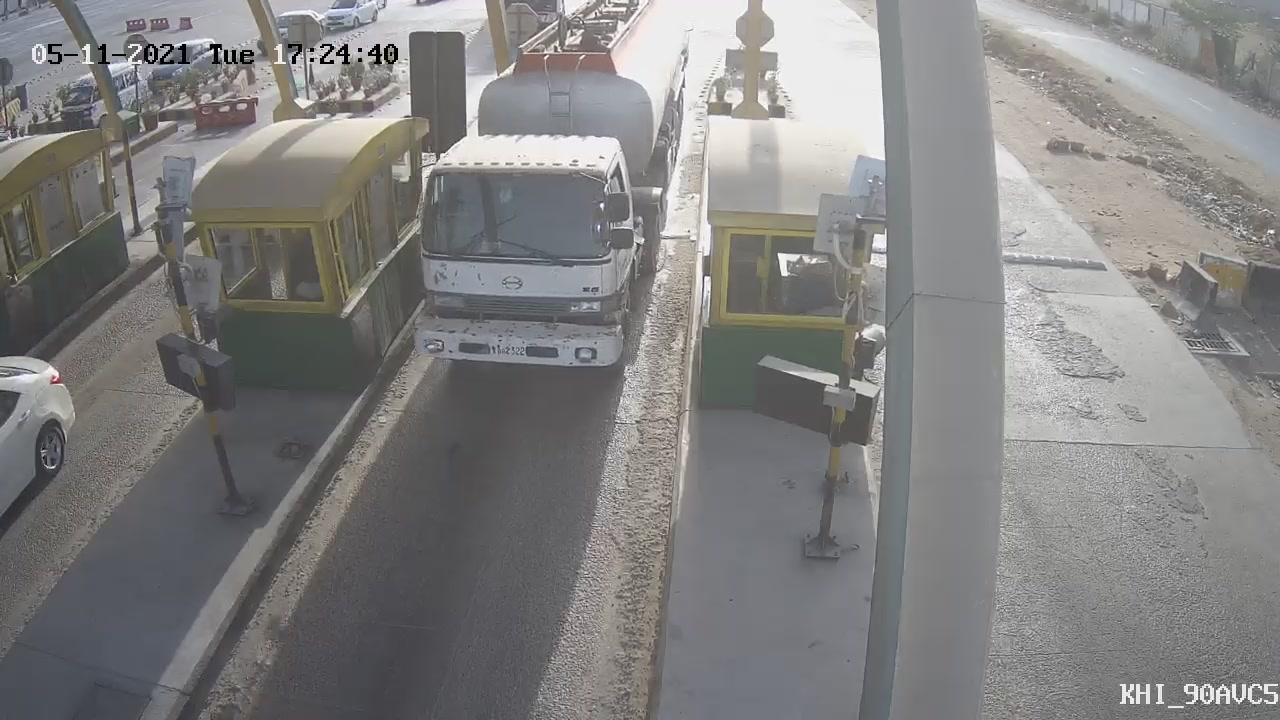F6: (370, 3, 701, 405)
